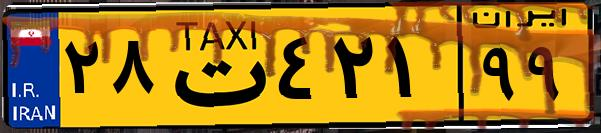1: (385, 28, 445, 110)
2: (330, 28, 385, 110), (57, 26, 110, 100)
4: (270, 28, 330, 110)
8: (110, 28, 158, 98)
9: (475, 38, 525, 113), (525, 38, 570, 115)
ت: (158, 12, 270, 120)
